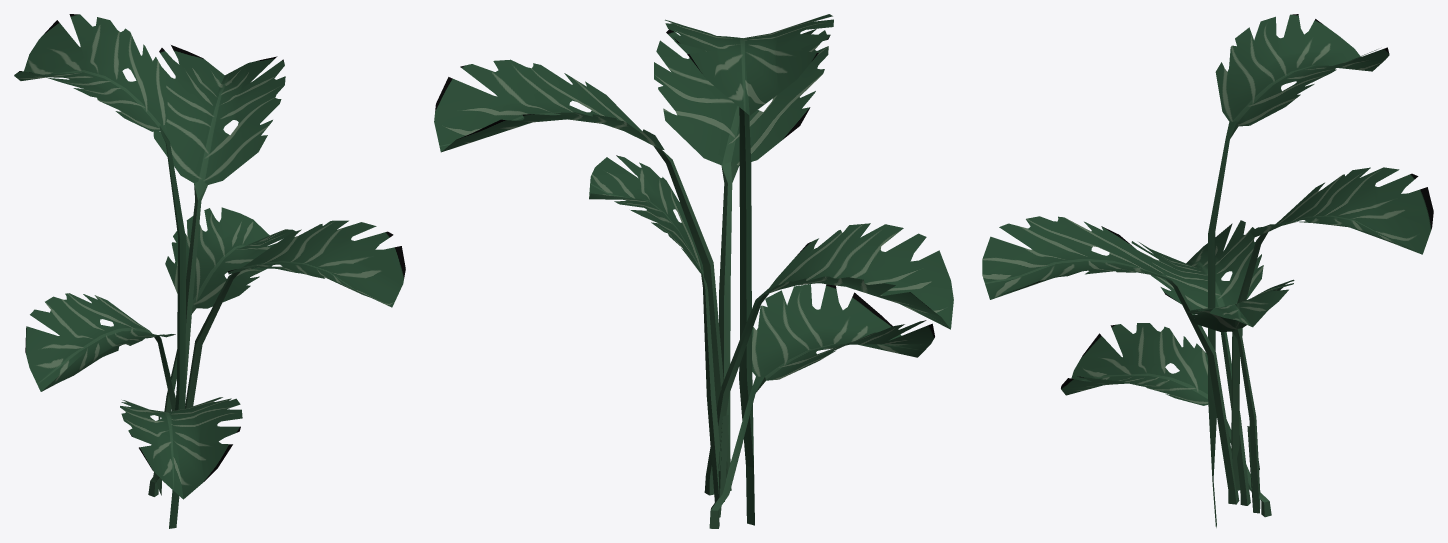
The model's file is cylinder.003_1_lev1.glb.
3 views of the same model, side by side, from view 1: azimuth 30°, elevation 25°; view 2: azimuth 150°, elevation 25°; view 3: azimuth 270°, elevation 25° (orthographic). The views are drawn at different scales.
Visible parts, largest first — view 1: cylinder.003_1_lev1; view 2: cylinder.003_1_lev1; view 3: cylinder.003_1_lev1.
Part boxes in pixels (<box>): cylinder.003_1_lev1: <box>14,14,405,528</box>; cylinder.003_1_lev1: <box>434,14,953,528</box>; cylinder.003_1_lev1: <box>982,14,1433,527</box>.
Bounding box in the file's own units: 2.08 × 2.8 × 2.44.
Materials: 1 (1 with a texture image).
